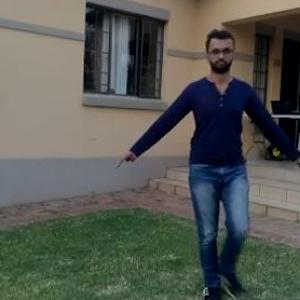land: (129, 52, 280, 273)
